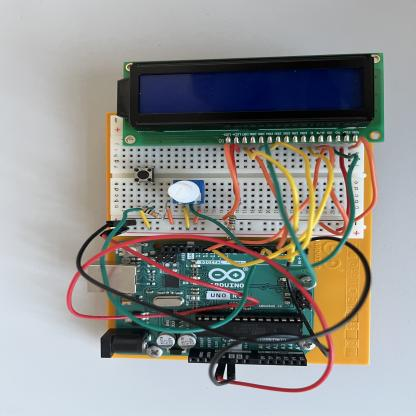5V: (121, 233, 337, 393), (65, 245, 262, 321)
ARDUINO: (112, 241, 315, 357)
Breadboard: (111, 114, 366, 238)
Button: (134, 168, 154, 182)
GND: (76, 220, 249, 341), (285, 235, 375, 335)
LCD: (116, 53, 384, 145)
Long wire: (190, 147, 359, 271), (100, 208, 259, 334), (211, 147, 333, 267), (207, 148, 326, 252), (259, 143, 317, 287), (258, 144, 315, 259), (245, 149, 301, 264), (251, 149, 291, 252), (316, 146, 348, 235), (350, 136, 378, 221), (222, 143, 240, 221), (336, 149, 352, 233), (222, 186, 240, 218), (230, 141, 241, 185)
Potentiometer: (168, 180, 204, 204)
Resistor: (139, 207, 163, 219), (227, 214, 236, 231)
Short wire: (182, 205, 190, 230), (139, 210, 150, 228), (166, 209, 174, 224), (193, 216, 199, 224), (196, 206, 201, 214)
